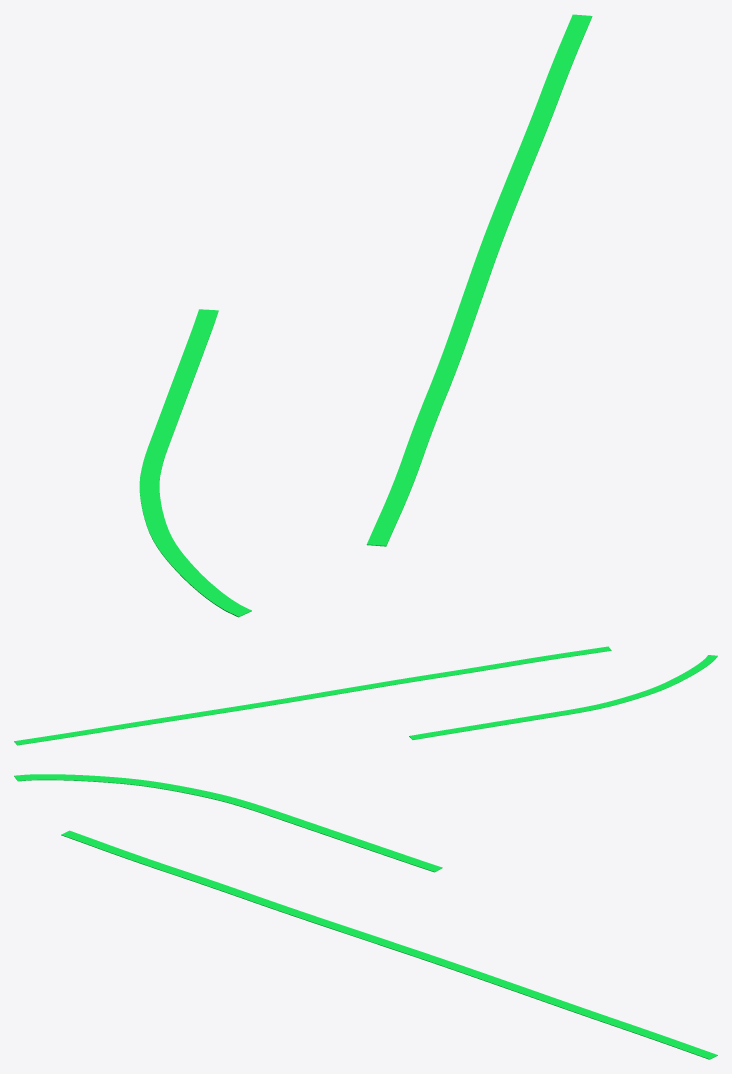
Rendered from HungaroringDrs.glb.
3 renders of one model, top to bottom at view 1: azimuth 30°, elevation 25°; view 2: azimuth 150°, elevation 25°; view 3: azimuth 270°, elevation 25°, orthographic. The views are drawn at different scales.
Visible parts, largest first — view 1: DrsStrip_1, DrsStrip_2; view 2: DrsStrip_1, DrsStrip_2; view 3: DrsStrip_1, DrsStrip_2.
Part boxes in pixels (x1,y1,x2,y2): DrsStrip_1: (366, 14, 592, 546); DrsStrip_2: (139, 309, 251, 617); DrsStrip_1: (14, 646, 611, 745); DrsStrip_2: (409, 655, 717, 739); DrsStrip_1: (61, 830, 717, 1059); DrsStrip_2: (14, 774, 442, 872).
Size of the model in its own units: 7.21 by 0.006 by 7.52.
